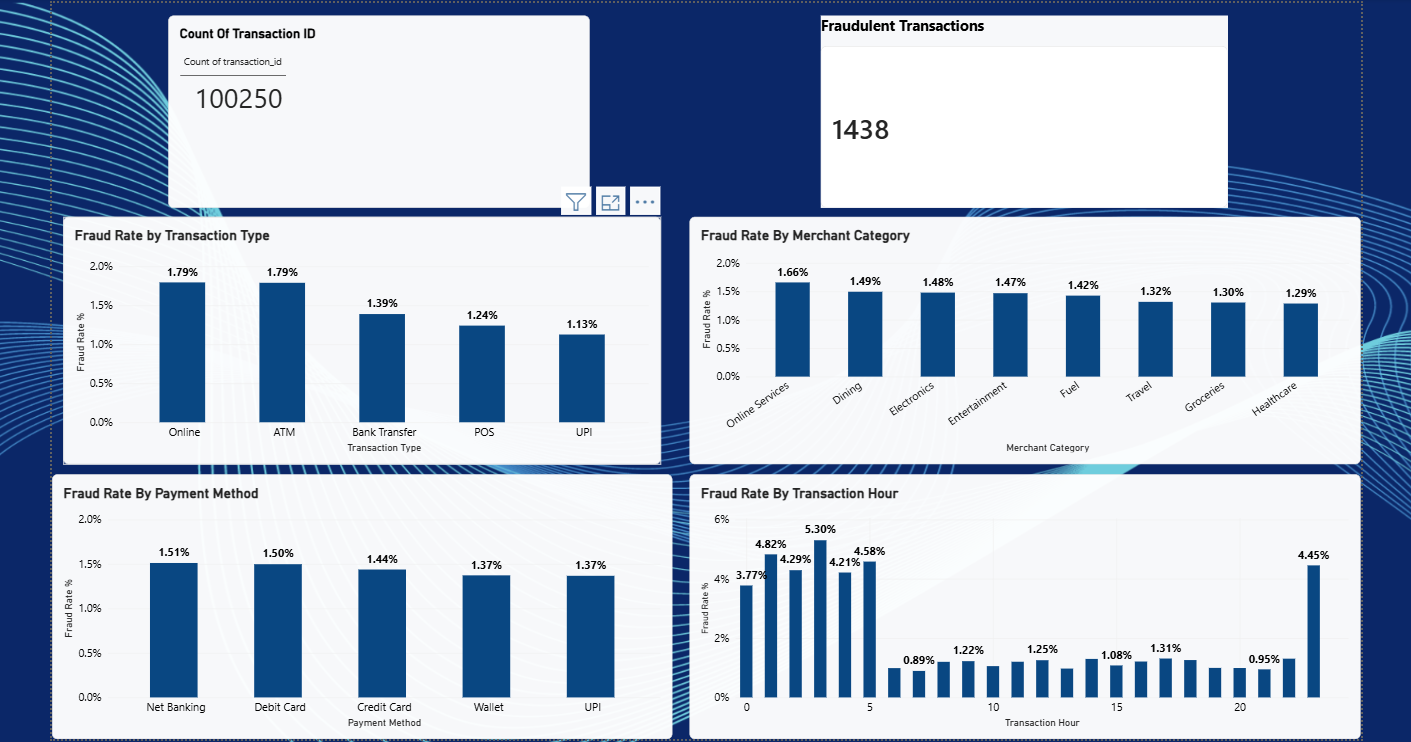

This screenshot's page, from the dashboard's own definition file:
{"tool":"powerbi","page":{"name":"Overview","canvas":[1920,1080],"ordinal":0},"visuals":[{"type":"tableEx","title":"Count Of Transaction ID","fields":{"Values":["banking_fraud_processed_final (2).transaction_id"]},"box":[170.6,18.3,618.1,282.5],"z":0},{"type":"cardVisual","fields":{"Data":["Sum(banking_fraud_processed_final (2).fraud_flag)"]},"box":[1128.1,18.3,598,282.5],"z":1000},{"type":"clusteredColumnChart","title":"Fraud Rate by Transaction Type","fields":{"Category":["banking_fraud_processed_final (2).transaction_type"],"Y":["banking_fraud_processed_final (2).Fraud Rate %"]},"box":[33,313.7,876.8,363.2],"z":2000},{"type":"clusteredColumnChart","title":"Fraud Rate By Merchant Category","fields":{"Category":["banking_fraud_processed_final (2).merchant_category"],"Y":["banking_fraud_processed_final (2).Fraud Rate %"]},"box":[997.8,313.7,898.8,363.2],"z":3000},{"type":"clusteredColumnChart","title":"Fraud Rate By Payment Method","fields":{"Category":["banking_fraud_processed_final (2).payment_method"],"Y":["banking_fraud_processed_final (2).Fraud Rate %"]},"box":[0,691.3,910.3,389.1],"z":4000},{"type":"clusteredColumnChart","title":"Fraud Rate By Transaction Hour","fields":{"Category":["banking_fraud_processed_final (2).transaction_hour"],"Y":["banking_fraud_processed_final (2).Fraud Rate %"]},"box":[935.6,691.3,984.5,389.1],"z":5000}]}

Visuals, with their boxes in screenshot pixels (x1, y1, x2, y2):
"Count Of Transaction ID" tableEx: bbox(171, 12, 590, 204)
cardVisual - Sum(banking_fraud_processed_final (2).fraud_flag): bbox(820, 12, 1225, 204)
"Fraud Rate by Transaction Type" clusteredColumnChart: bbox(77, 213, 672, 459)
"Fraud Rate By Merchant Category" clusteredColumnChart: bbox(731, 213, 1341, 459)
"Fraud Rate By Payment Method" clusteredColumnChart: bbox(55, 469, 672, 732)
"Fraud Rate By Transaction Hour" clusteredColumnChart: bbox(689, 469, 1356, 732)
